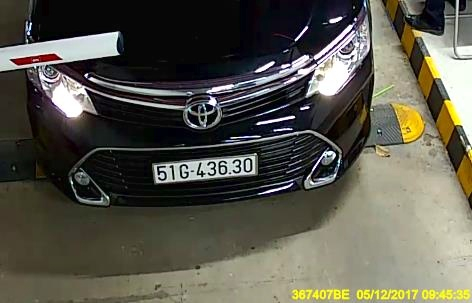plate: (146, 154, 263, 183)
